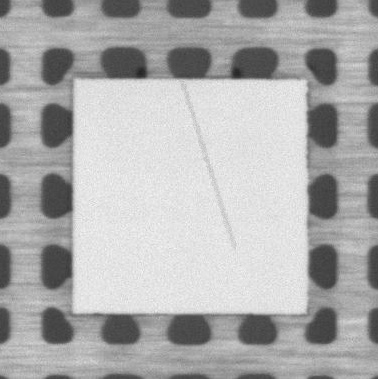DIE_CRACK: (183, 84, 234, 249)
